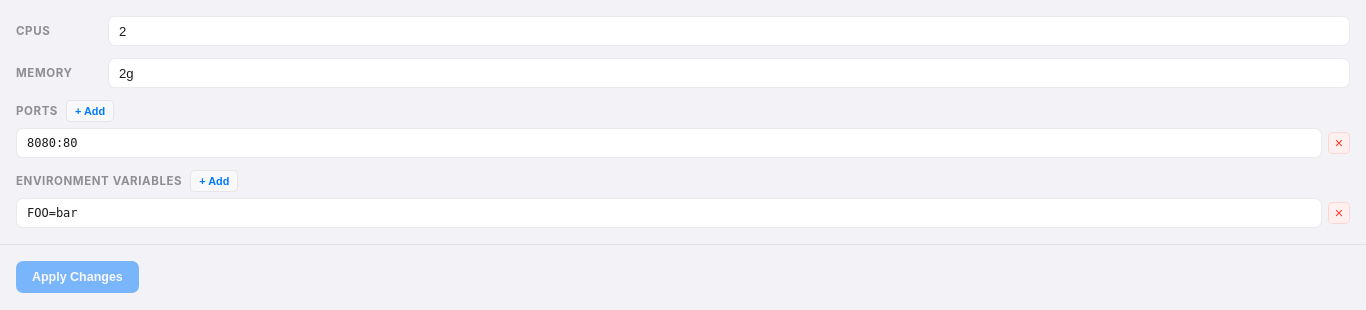
ContainerSettings › warns about settings the recreate cannot carry over
Replace the text in the number field with "4" at (729, 31), box [108, 16, 1350, 46]
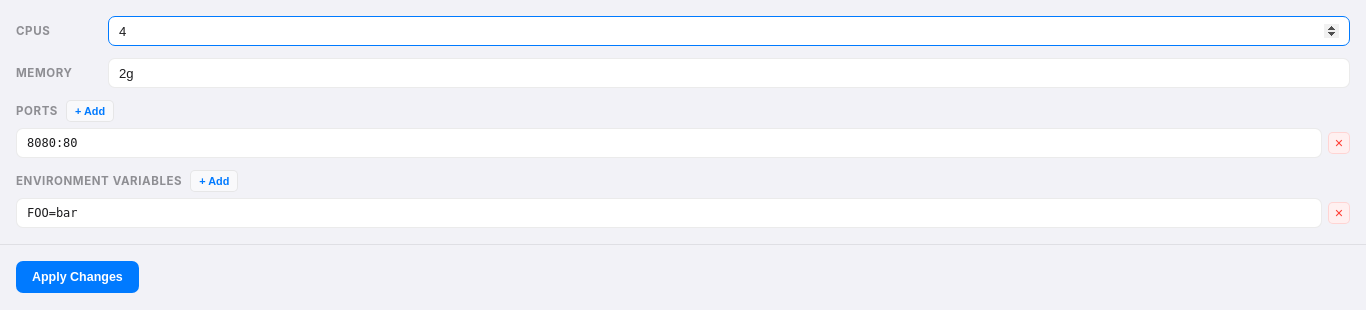
Click the button "Apply Changes".
click(77, 277)  # box [16, 261, 139, 293]
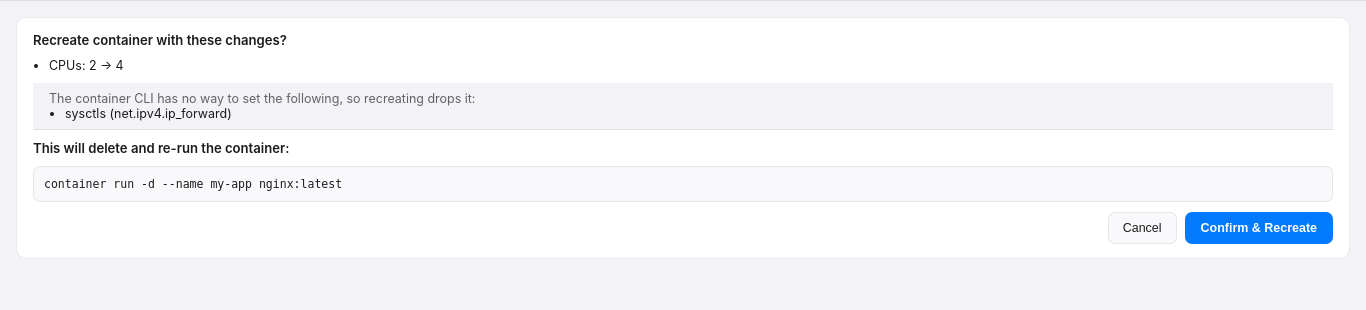
Expected: the list item "sysctls (net.ipv4.ip_forward)" is shown, [65, 106, 232, 121]
